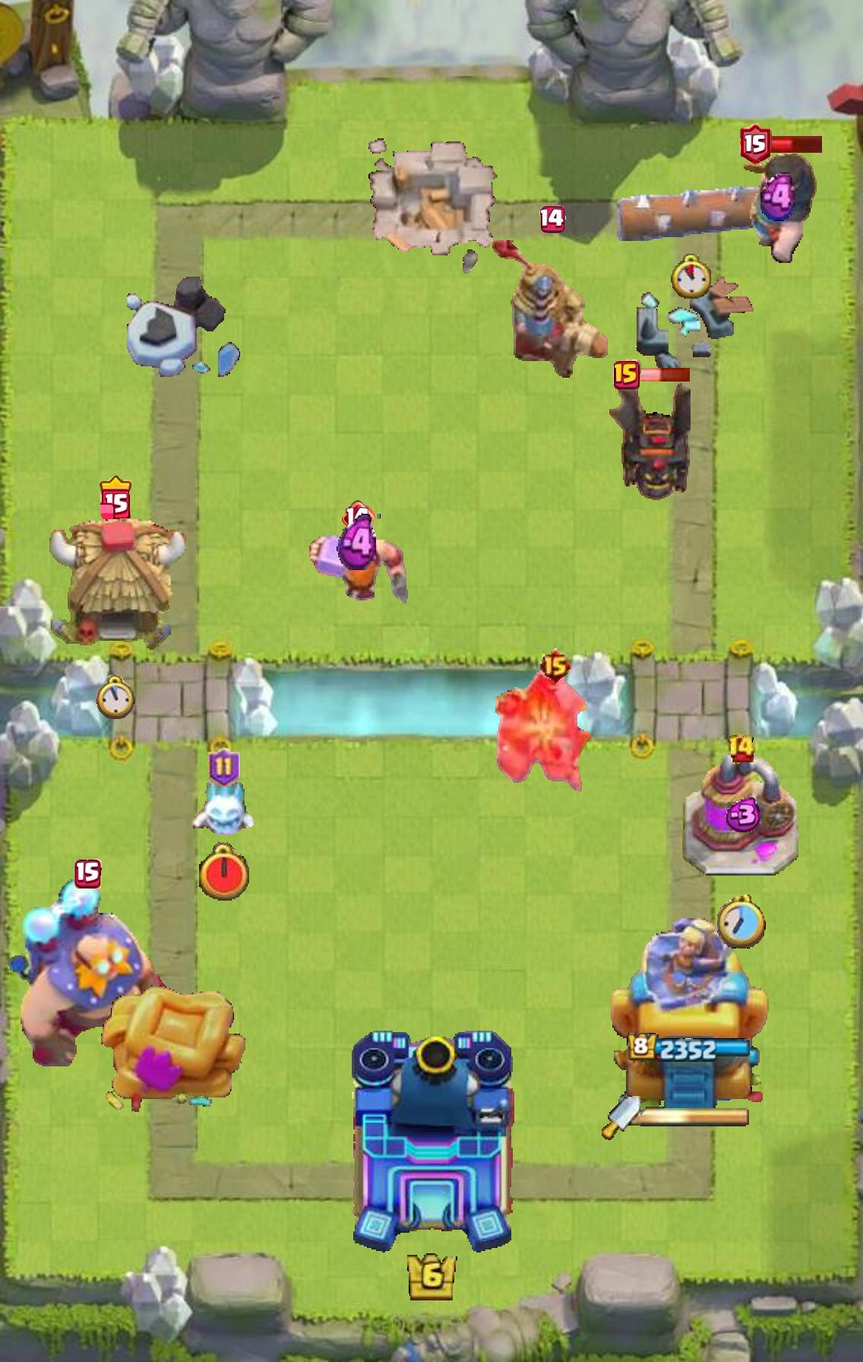bar: (768, 134, 824, 154), (637, 367, 691, 382)
bar-level: (99, 475, 132, 519), (740, 123, 772, 164), (538, 648, 573, 684), (208, 748, 240, 787), (342, 500, 375, 534), (727, 734, 756, 765), (613, 360, 642, 390), (74, 859, 102, 889), (540, 205, 566, 233)
